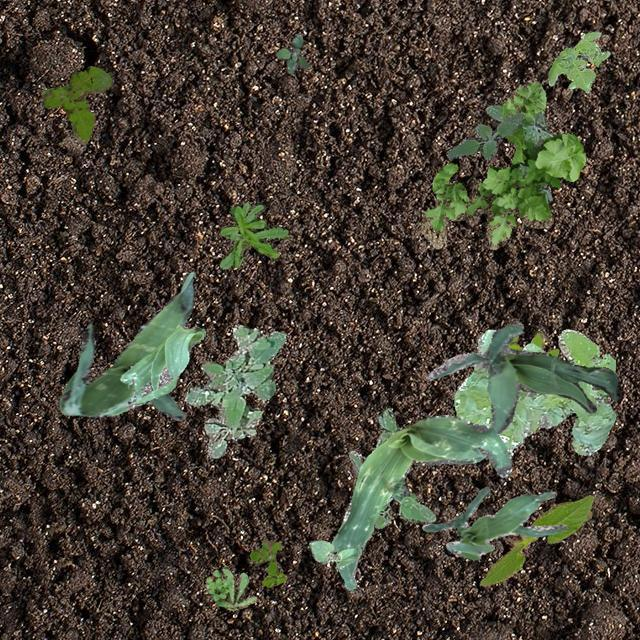crop: (330, 413, 510, 590), (424, 322, 620, 432), (59, 272, 193, 419), (422, 486, 568, 558), (478, 494, 592, 586), (120, 323, 204, 408), (308, 540, 362, 566)
weed: (420, 78, 584, 248), (453, 328, 614, 454), (183, 323, 284, 458), (348, 407, 434, 528), (484, 102, 554, 204), (40, 64, 110, 144), (218, 202, 288, 268), (548, 30, 608, 91), (446, 112, 524, 158), (204, 566, 256, 608), (248, 538, 286, 586), (276, 34, 308, 72), (508, 332, 558, 356)
